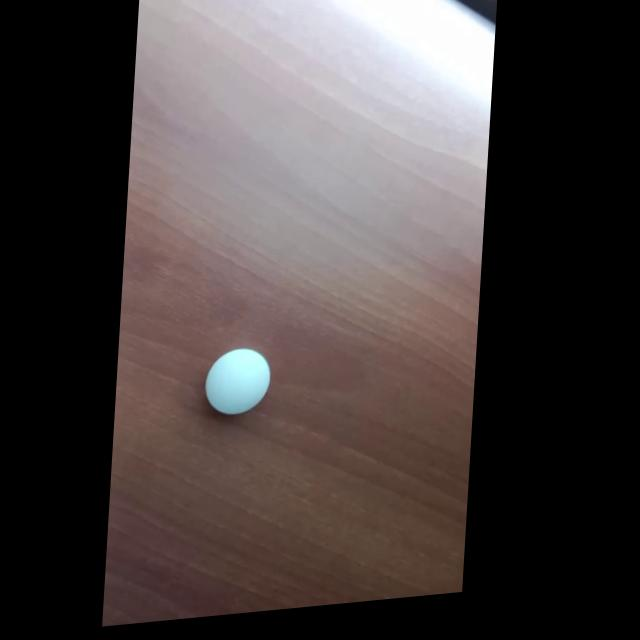white ball: (203, 344, 273, 417)
